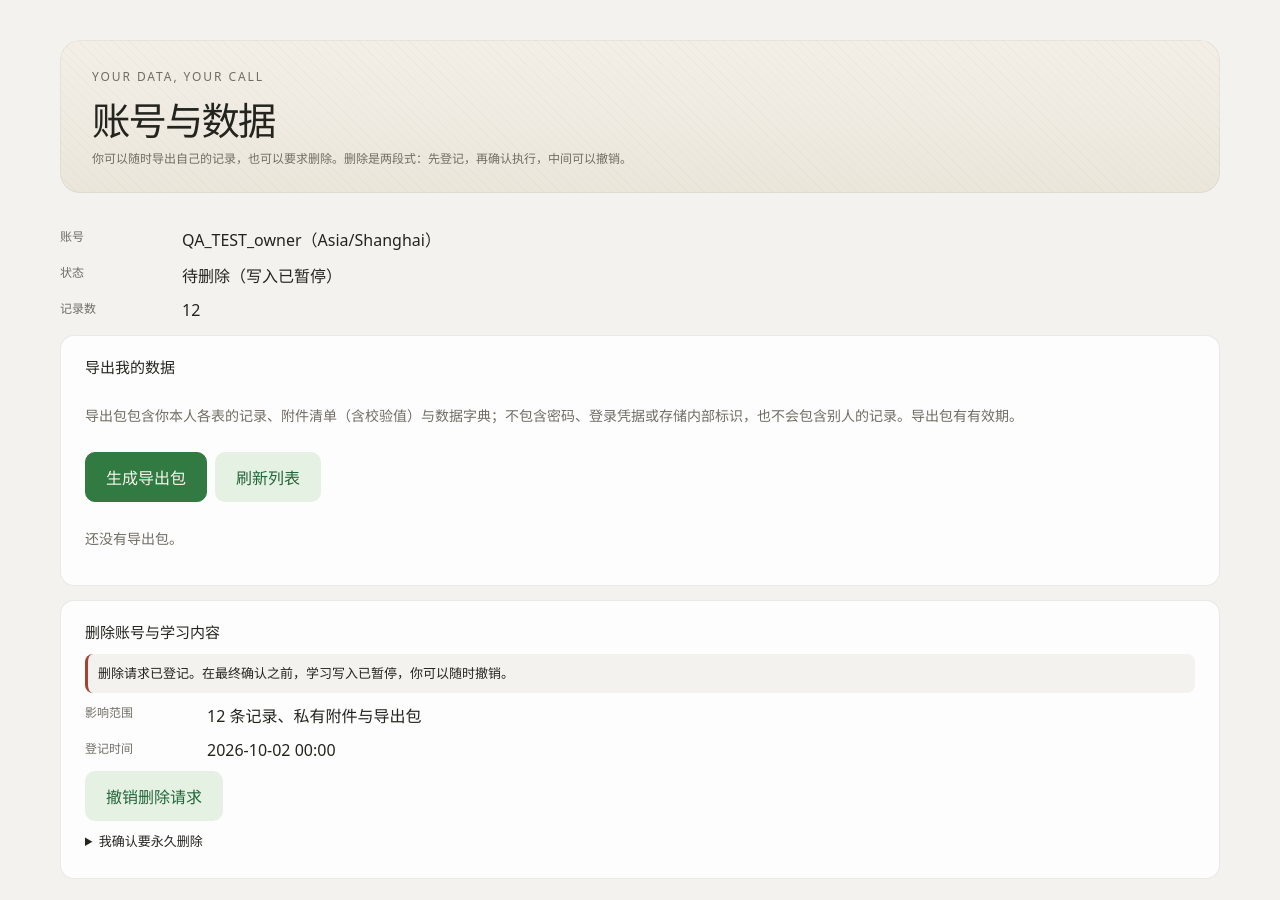
Test case: account data sovereignty › cancels a pending request with If-Match and a matching key
Click the button "撤销删除请求".
click(154, 796)  # box x1=85 y1=771 x2=223 y2=821
(page scrolled)
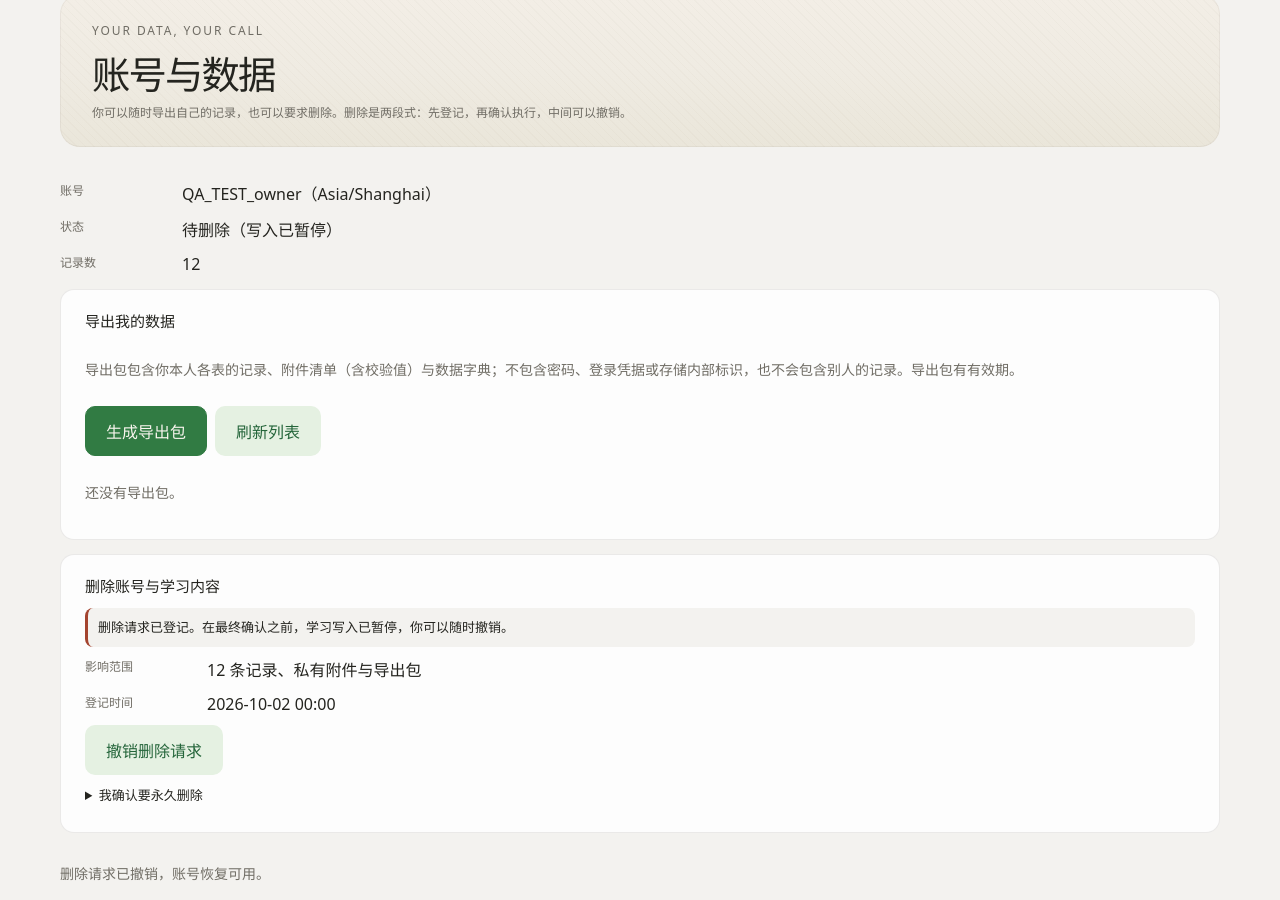
Result: the text "删除请求已撤销，账号恢复可用。" is shown at x1=60 y1=864 x2=270 y2=883
